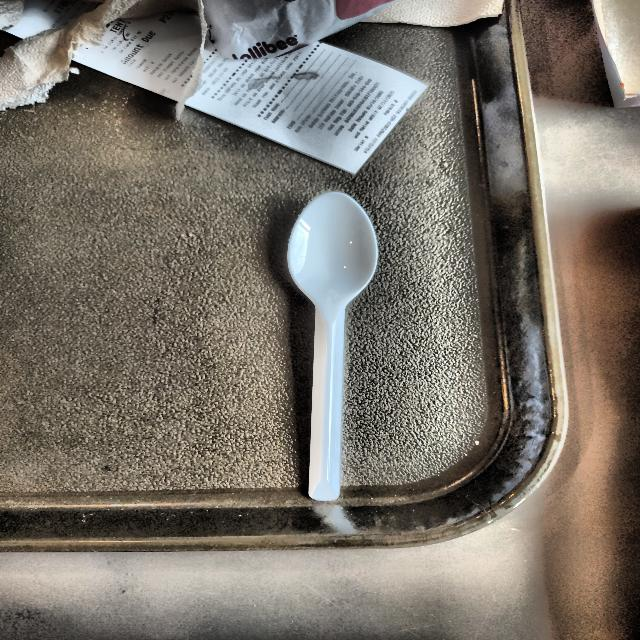plastic utensil: (288, 191, 378, 500)
